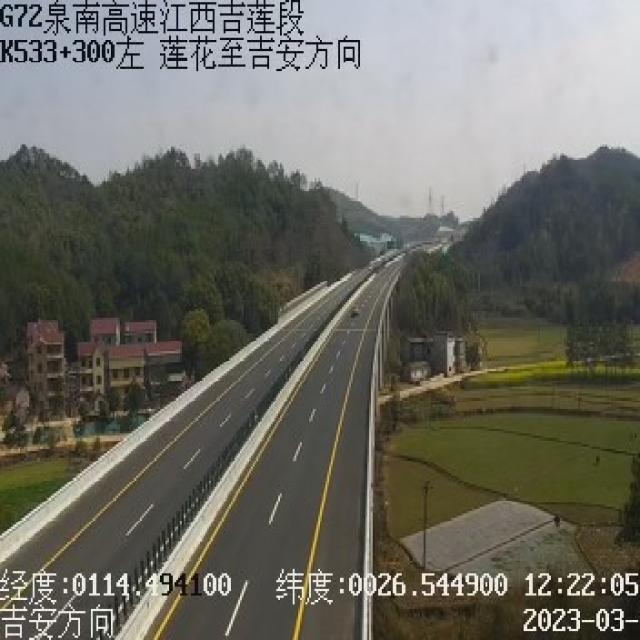point: (385, 212, 454, 281)
